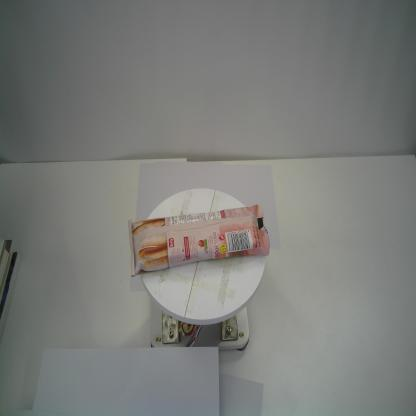Dessert: (125, 199, 274, 277)
